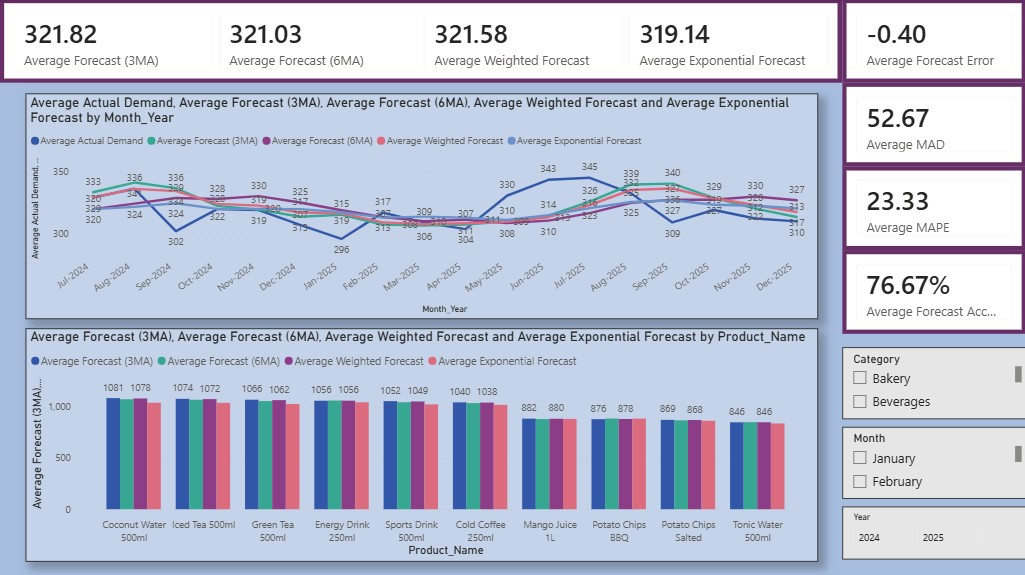

This screenshot's page, from the dashboard's own definition file:
{"tool":"powerbi","page":{"name":"Forecasting Analytics","canvas":[1280,720],"ordinal":3},"visuals":[{"type":"cardVisual","fields":{"Data":["Measures (2).Average Forecast Accuracy"]},"box":[1051.3,313.4,229.1,104.5],"z":0},{"type":"cardVisual","fields":{"Data":["Measures (2).Average MAPE"]},"box":[1051.3,208.9,229.1,104.5],"z":1000},{"type":"cardVisual","fields":{"Data":["Measures (2).Average MAD"]},"box":[1051.3,104.5,229.1,104.5],"z":2000},{"type":"cardVisual","fields":{"Data":["Measures (2).Average Forecast Error"]},"box":[1051.3,0,229.1,104.5],"z":3000},{"type":"cardVisual","fields":{"Data":["Measures (2).Average Forecast (3MA)","Measures (2).Average Forecast (6MA)","Measures (2).Average Weighted Forecast","Measures (2).Average Exponential Forecast"]},"box":[0,0,1051.3,104.5],"z":4000},{"type":"lineChart","fields":{"Category":["Dates.Month_Year"],"Y":["Measures (2).Average Actual Demand","Measures (2).Average Forecast (3MA)","Measures (2).Average Forecast (6MA)","Measures (2).Average Weighted Forecast","Measures (2).Average Exponential Forecast"]},"box":[32,117.9,989,281.4],"z":5000},{"type":"clusteredColumnChart","fields":{"Category":["Products.Product_Name"],"Y":["Measures (2).Average Forecast (3MA)","Measures (2).Average Forecast (6MA)","Measures (2).Average Weighted Forecast","Measures (2).Average Exponential Forecast"]},"box":[32,411.1,989,291.5],"z":6000},{"type":"slicer","fields":{"Values":["Dates.Month"]},"box":[1050.9,534.1,229.1,89.3],"z":7000},{"type":"slicer","fields":{"Values":["Dates.Year"]},"box":[1050.9,633.5,229.1,65.7],"z":8000},{"type":"slicer","fields":{"Values":["Products.Category"]},"box":[1051.3,434.7,229.1,89.3],"z":9000}]}

Visuals, with their boxes in screenshot pixels (x1, y1, x2, y2), scaled from the page's 1280x720 canvas onto the 1025x575 screenshot:
cardVisual - Measures (2).Average Forecast Accuracy: (x1=842, y1=250, x2=1024, y2=334)
cardVisual - Measures (2).Average MAPE: (x1=842, y1=167, x2=1024, y2=250)
cardVisual - Measures (2).Average MAD: (x1=842, y1=83, x2=1024, y2=167)
cardVisual - Measures (2).Average Forecast Error: (x1=842, y1=0, x2=1024, y2=83)
cardVisual - Measures (2).Average Forecast (3MA) x Measures (2).Average Forecast (6MA): (x1=0, y1=0, x2=842, y2=83)
lineChart - Dates.Month_Year x Measures (2).Average Actual Demand: (x1=26, y1=94, x2=818, y2=319)
clusteredColumnChart - Products.Product_Name x Measures (2).Average Forecast (3MA): (x1=26, y1=328, x2=818, y2=561)
slicer - Dates.Month: (x1=842, y1=427, x2=1024, y2=498)
slicer - Dates.Year: (x1=842, y1=506, x2=1024, y2=558)
slicer - Products.Category: (x1=842, y1=347, x2=1024, y2=418)
